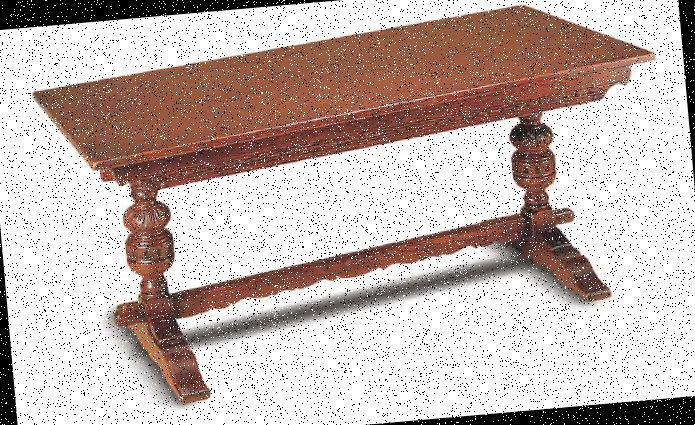Mesa: (29, 0, 679, 397)
